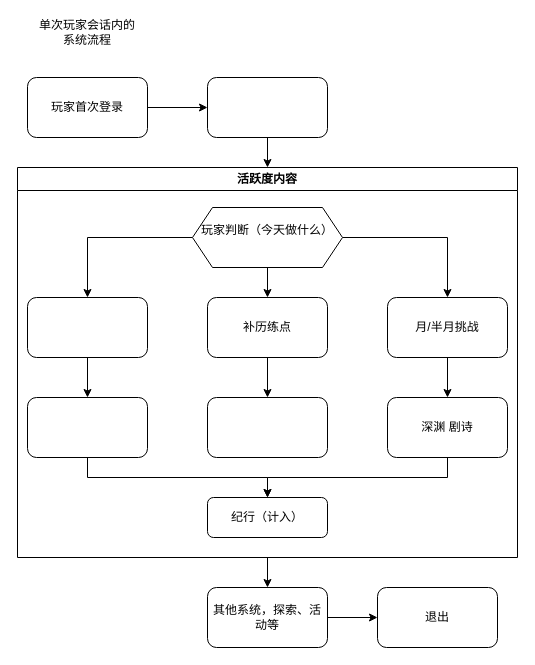
The diagram is 535 pixels wide and 665 high, and some of its shapes have lost their labels. The shapes that lost their labels are listed below. From the top down, each one's box as (x1, y1, x2, y2) in pixels, then its label:
(206, 76, 328, 138): 公告/邮件/其他红点 （系统推送内容）
(26, 296, 148, 358): 清树脂
(26, 396, 148, 458): 秘境 周本 地脉
(206, 396, 328, 458): 任务 宝箱 活动
